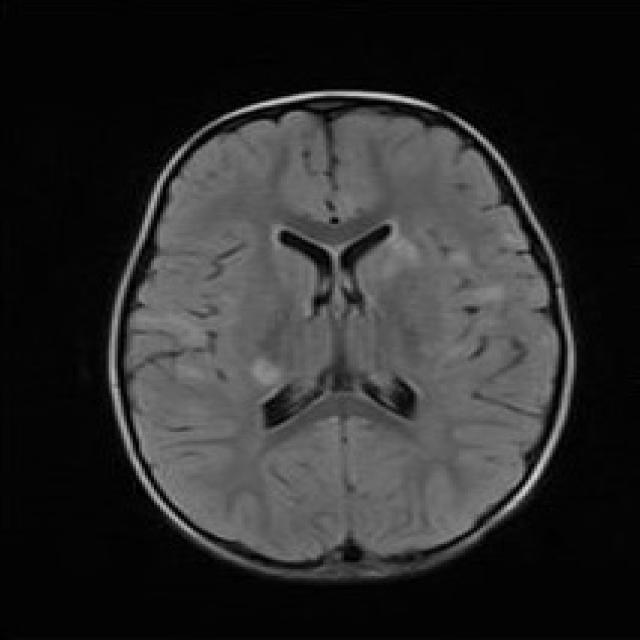No_Tumor: (110, 92, 573, 579)
